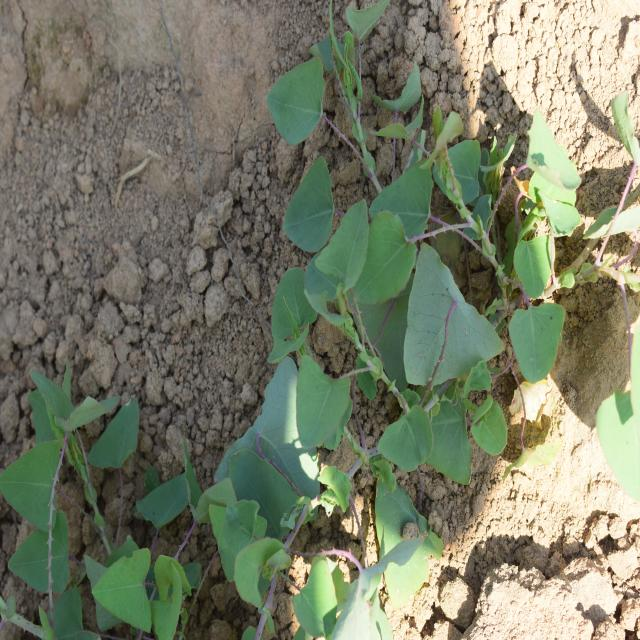Asiatic_Smartweed: (267, 13, 457, 294), (278, 282, 526, 484), (486, 122, 588, 373), (85, 457, 231, 631), (198, 484, 348, 632)
